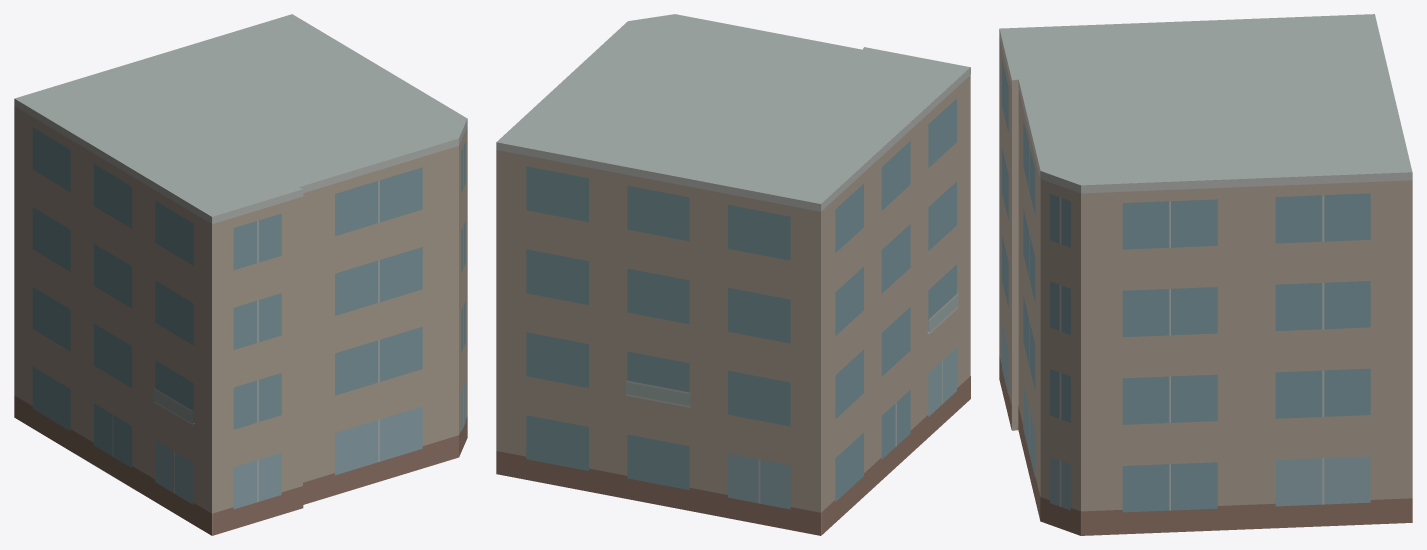
The model's file is survey-upis-32926706.glb.
3 renders of one model, left to right at view 1: azimuth 30°, elevation 25°; view 2: azimuth 150°, elevation 25°; view 3: azimuth 270°, elevation 25°, orthographic. The views are drawn at different scales.
Visible parts, largest first — view 1: survey-upis-32926706.tmp; view 2: survey-upis-32926706.tmp; view 3: survey-upis-32926706.tmp.
Part boxes in pixels (box(x1,y1,x2,y2)): survey-upis-32926706.tmp: box(14, 14, 467, 535); survey-upis-32926706.tmp: box(496, 14, 970, 535); survey-upis-32926706.tmp: box(999, 14, 1412, 535).
Bounding box in the file's own units: 11.1 × 10.58 × 11.31.
